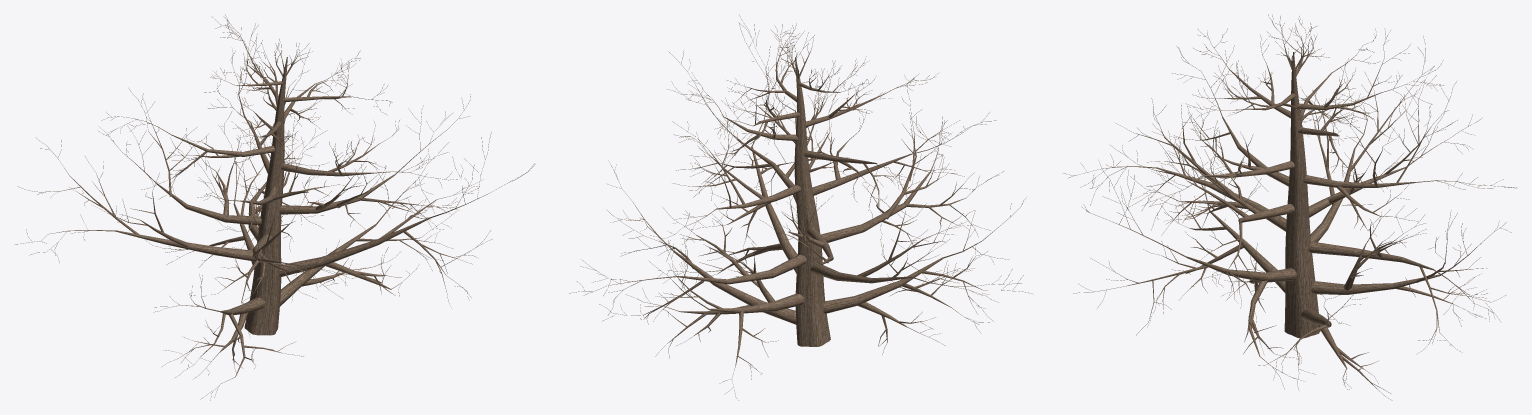
File: crown_lod.glb
3 renders of one model, left to right at view 1: azimuth 30°, elevation 25°; view 2: azimuth 150°, elevation 25°; view 3: azimuth 270°, elevation 25°, orthographic. The views are drawn at different scales.
Size of the model in its own units: 11.79 by 8.27 by 10.31.
1 material, 1 textured.
